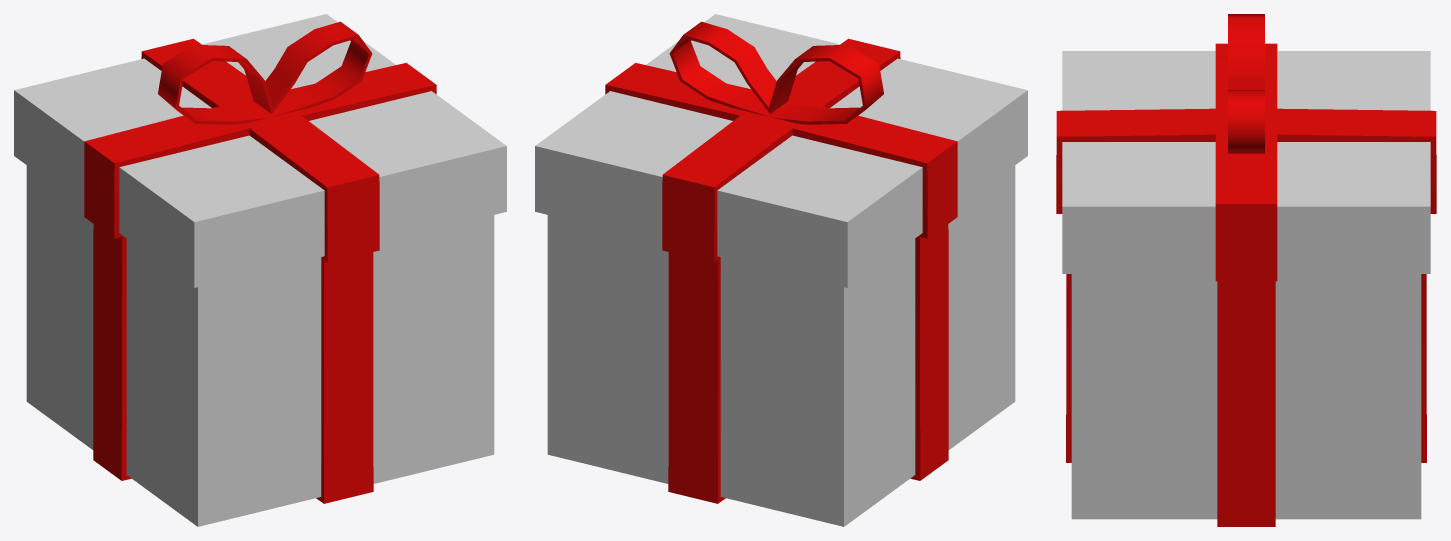
The model's file is present.fbx.
The picture shows the model from 3 angles, left to right: view 1: azimuth 30°, elevation 25°; view 2: azimuth 150°, elevation 25°; view 3: azimuth 270°, elevation 25°; orthographic projection. The views are drawn at different scales.
Parts seen in each view (by area): view 1: present; view 2: present; view 3: present.
Boxes of the visible parts, x1,y1,x2,y2 form: present: (14, 14, 506, 526); present: (535, 14, 1027, 526); present: (1056, 14, 1436, 526).
Size of the model in its own units: 54.42 by 64.17 by 54.42.
